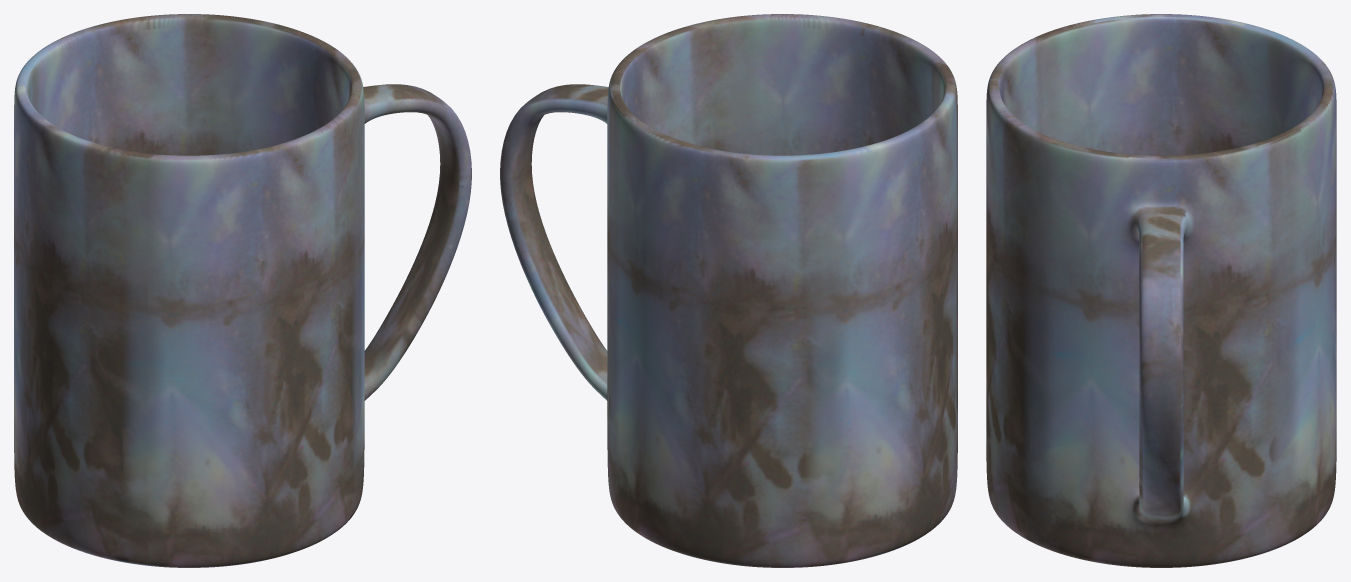
Rendered from bog.glb.
The picture shows the model from 3 angles, left to right: view 1: azimuth 30°, elevation 25°; view 2: azimuth 150°, elevation 25°; view 3: azimuth 270°, elevation 25°; orthographic projection.
Parts seen in each view (by area): view 1: cup1; view 2: cup1; view 3: cup1.
Boxes of the visible parts, left/top/right/bottom form: cup1: left=14, top=14, right=471, bottom=567; cup1: left=500, top=14, right=957, bottom=567; cup1: left=986, top=14, right=1336, bottom=567.
Size of the model in its own units: 16.49 by 15.17 by 11.71.
Materials: 1 (1 with a texture image).
